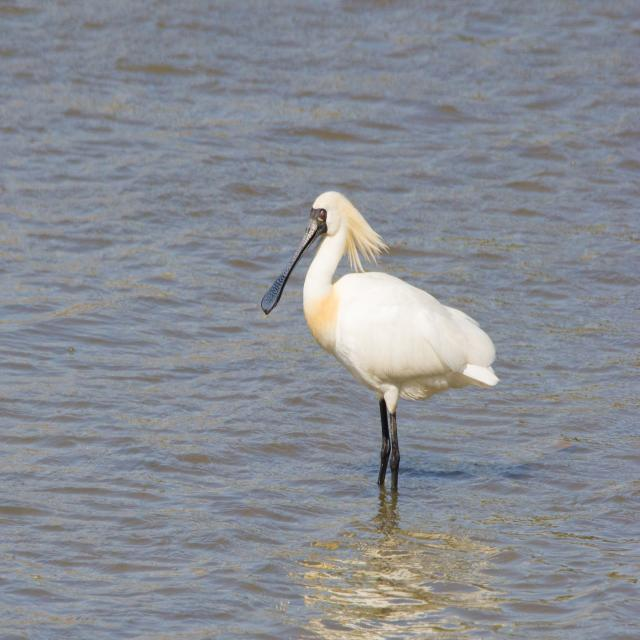Black-faced spoonbill: (262, 192, 498, 490)
